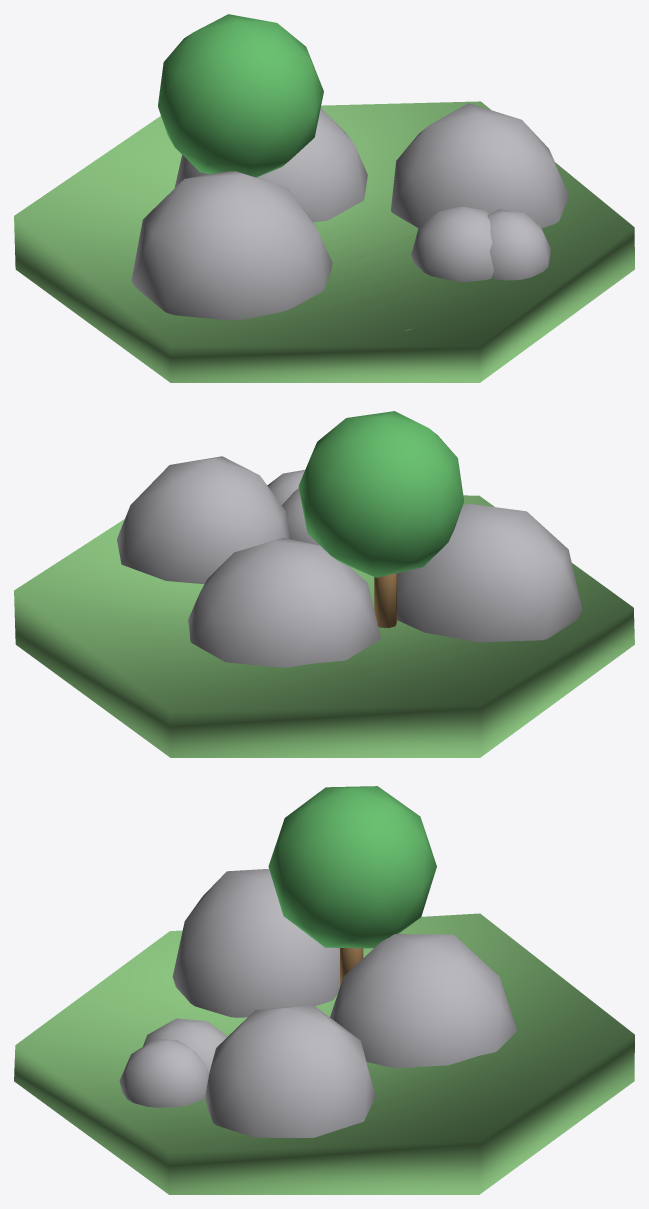
The model's file is grassland_v1.glb.
3 renders of one model, top to bottom at view 1: azimuth 30°, elevation 25°; view 2: azimuth 150°, elevation 25°; view 3: azimuth 270°, elevation 25°, orthographic.
Parts seen in each view (by area): view 1: grassland_tile_1.001, rock_Icosphere.014, tree_crown_Icosphere.002, rock_Icosphere.016, rock_Icosphere.013, rock_Icosphere.015, rock_Icosphere.012; view 2: grassland_tile_1.001, tree_crown_Icosphere.002, rock_Icosphere.013, rock_Icosphere.014, rock_Icosphere.016, tree_trunk_Cylinder.002, rock_Icosphere.015, rock_Icosphere.012; view 3: grassland_tile_1.001, tree_crown_Icosphere.002, rock_Icosphere.013, rock_Icosphere.016, rock_Icosphere.014, rock_Icosphere.012, rock_Icosphere.015.
Part boxes in pixels (x1,y1,x2,y2): grassland_tile_1.001: (14, 101, 634, 382); rock_Icosphere.014: (131, 171, 332, 320); tree_crown_Icosphere.002: (158, 14, 323, 177); rock_Icosphere.016: (391, 103, 568, 228); rock_Icosphere.013: (174, 108, 367, 222); rock_Icosphere.015: (411, 205, 493, 281); rock_Icosphere.012: (487, 209, 550, 280); grassland_tile_1.001: (14, 495, 634, 757); tree_crown_Icosphere.002: (298, 411, 464, 577); rock_Icosphere.013: (188, 538, 380, 667); rock_Icosphere.014: (397, 503, 582, 642); rock_Icosphere.016: (117, 456, 289, 584); tree_trunk_Cylinder.002: (374, 573, 396, 628); rock_Icosphere.015: (282, 488, 319, 545); rock_Icosphere.012: (267, 470, 304, 505); grassland_tile_1.001: (14, 913, 634, 1194); tree_crown_Icosphere.002: (268, 786, 436, 948); rock_Icosphere.013: (330, 934, 517, 1068); rock_Icosphere.016: (205, 1005, 375, 1137); rock_Icosphere.014: (172, 869, 339, 1017); rock_Icosphere.012: (119, 1039, 209, 1107); rock_Icosphere.015: (143, 1018, 227, 1072).
Bounding box in the file's own units: 0.8928 × 0.5311 × 1.02.
